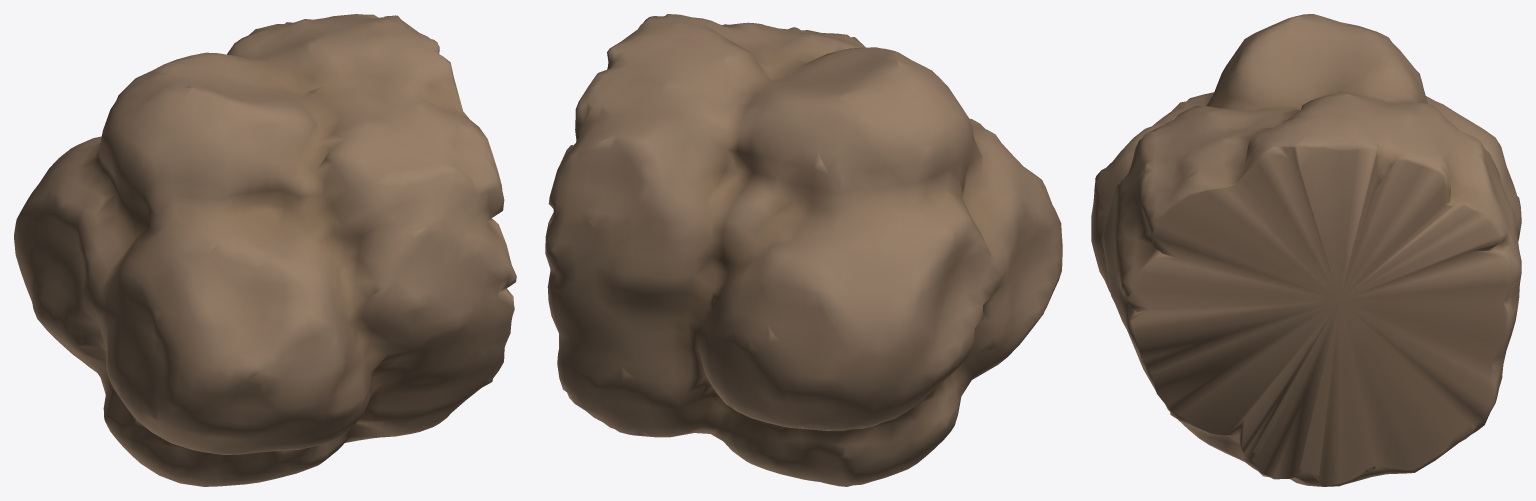
The model's file is original_glb.glb.
3 renders of one model, left to right at view 1: azimuth 30°, elevation 25°; view 2: azimuth 150°, elevation 25°; view 3: azimuth 270°, elevation 25°, orthographic. The views are drawn at different scales.
Parts seen in each view (by area): view 1: rubble-chunk-c; view 2: rubble-chunk-c; view 3: rubble-chunk-c.
Boxes of the visible parts, box(x1,y1,x2,y2) form: rubble-chunk-c: box(14, 14, 516, 486); rubble-chunk-c: box(545, 14, 1062, 486); rubble-chunk-c: box(1091, 14, 1521, 486).
Bounding box in the file's own units: 0.8848 × 0.9941 × 0.998.
1 material, 1 textured.
